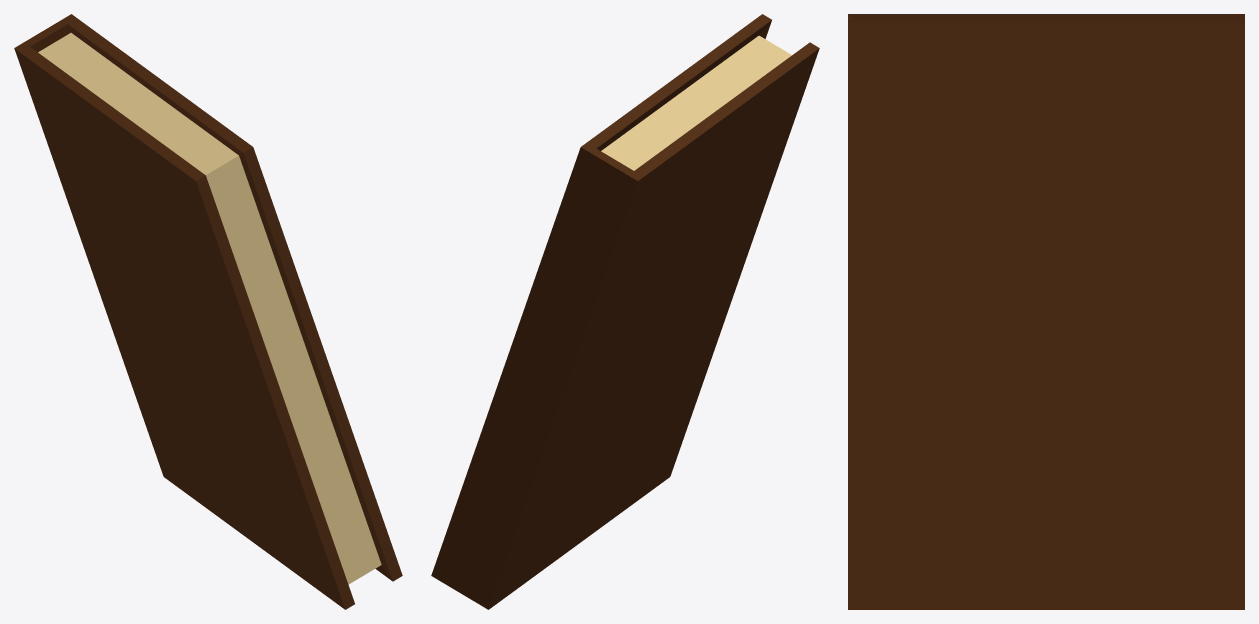
Rendered from Book1_028.fbx.
3 renders of one model, left to right at view 1: azimuth 30°, elevation 25°; view 2: azimuth 150°, elevation 25°; view 3: azimuth 270°, elevation 25°, orthographic. The views are drawn at different scales.
Visible parts, largest first — view 1: Book1.028; view 2: Book1.028; view 3: Book1.028.
Boxes of the visible parts, left/top/right/bottom form: Book1.028: left=14, top=14, right=402, bottom=609; Book1.028: left=431, top=14, right=819, bottom=609; Book1.028: left=848, top=14, right=1244, bottom=609.
Bounding box in the file's own units: 22.57 × 50.62 × 34.37.
